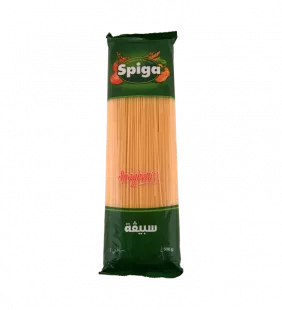SPIGA: (92, 21, 188, 283)
